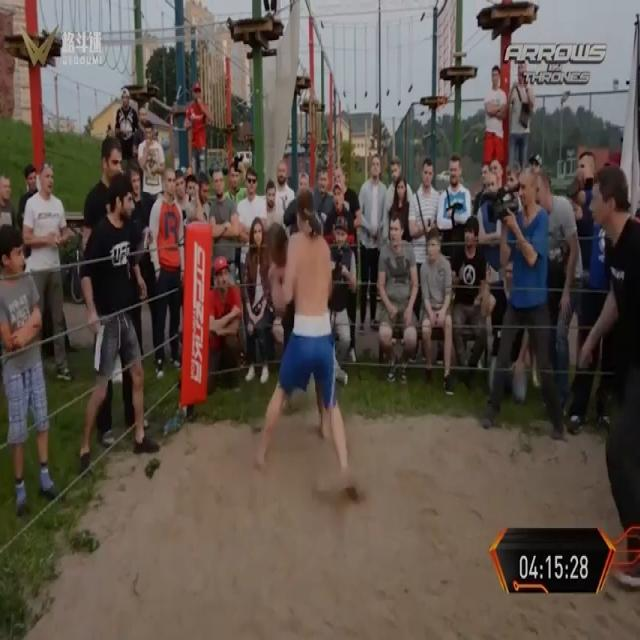fight: (254, 196, 358, 504)
non-fight: (572, 166, 640, 586), (492, 159, 575, 437), (79, 169, 150, 457), (19, 156, 75, 380), (445, 217, 493, 403), (374, 208, 420, 385), (353, 153, 389, 335), (242, 215, 280, 385), (415, 157, 442, 235), (210, 164, 235, 236)
